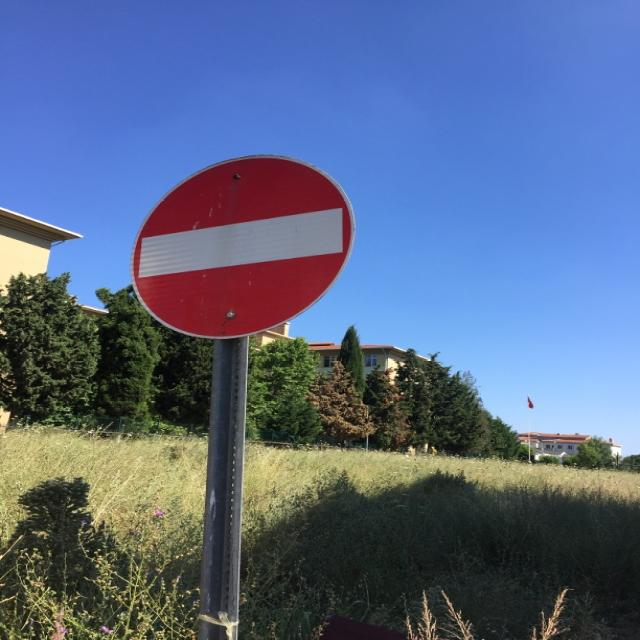girisyok: (130, 155, 354, 339)
